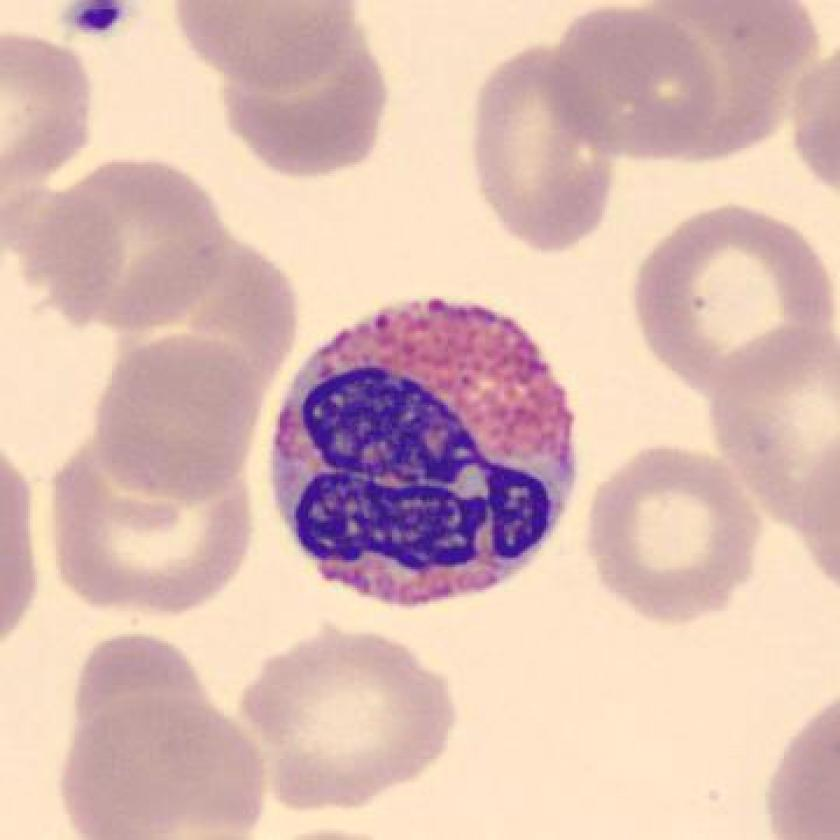eosinophil: (258, 290, 589, 619)
